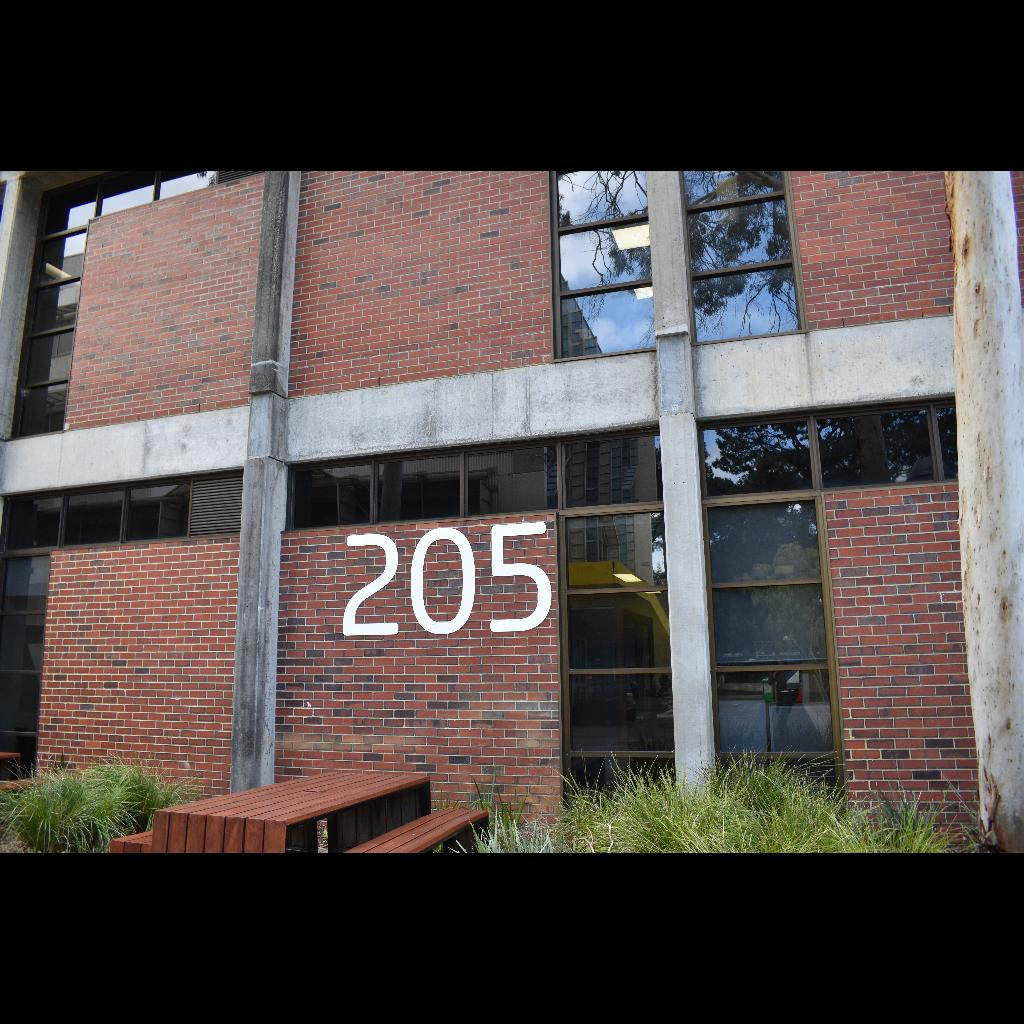BuildingCodes: (340, 518, 554, 640)
